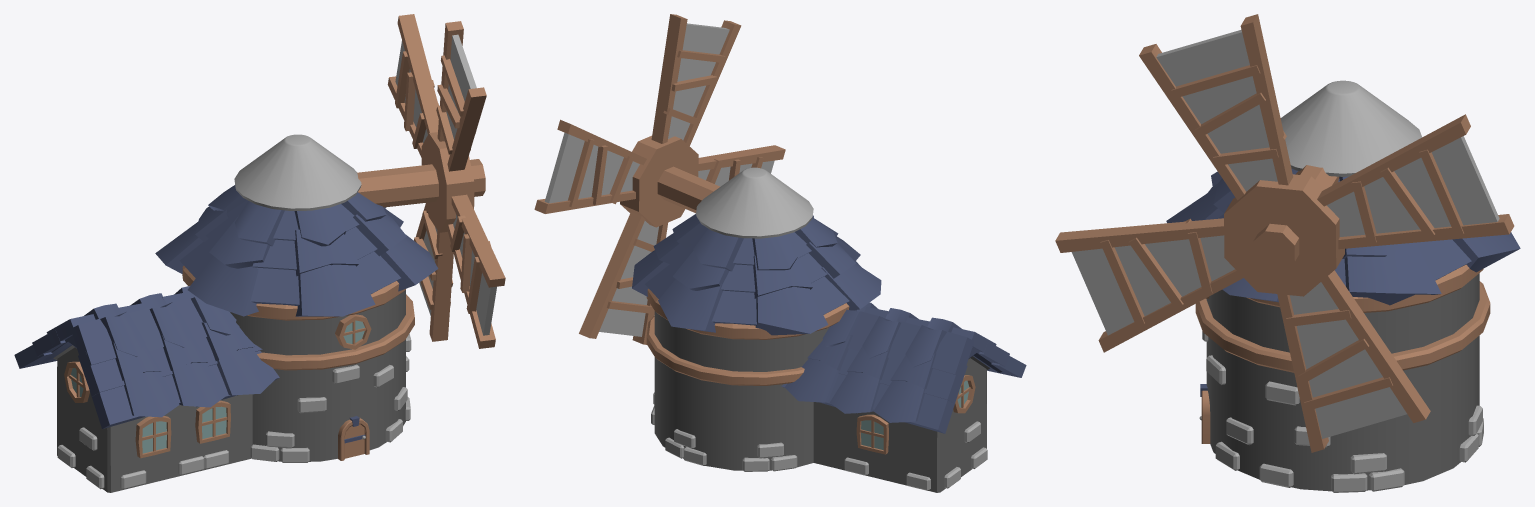
The model's file is Windmill.fbx.
3 renders of one model, left to right at view 1: azimuth 30°, elevation 25°; view 2: azimuth 150°, elevation 25°; view 3: azimuth 270°, elevation 25°, orthographic. The views are drawn at different scales.
Visible parts, largest first — view 1: Windmill; view 2: Windmill; view 3: Windmill.
Part boxes in pixels (<box>): Windmill: <box>14,14,505,492</box>; Windmill: <box>534,14,1026,492</box>; Windmill: <box>1055,14,1520,492</box>.
Bounding box in the file's own units: 369 × 333 × 287.
